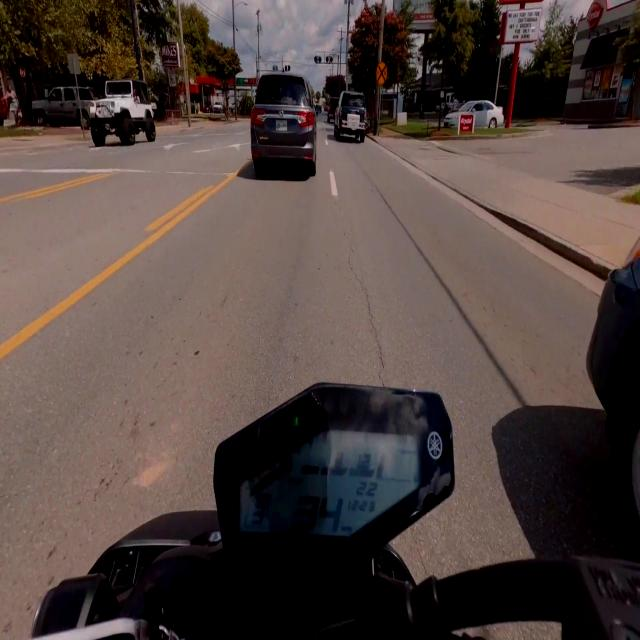car: (586, 239, 639, 554), (250, 72, 316, 175), (91, 80, 155, 146), (334, 91, 366, 142), (444, 101, 504, 128), (327, 97, 338, 122)
motorcycle: (32, 384, 639, 639)
